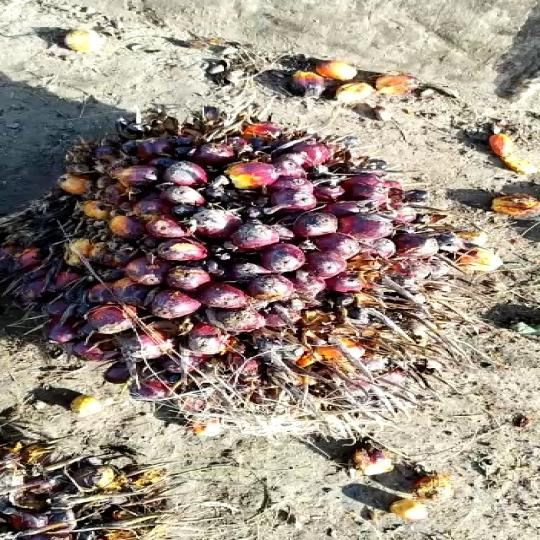masak: (4, 116, 432, 414)
